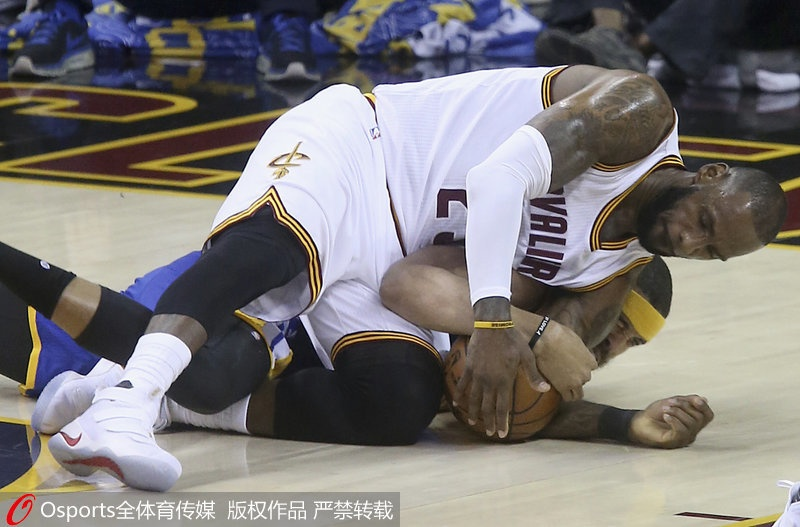falling: (30, 57, 772, 459)
